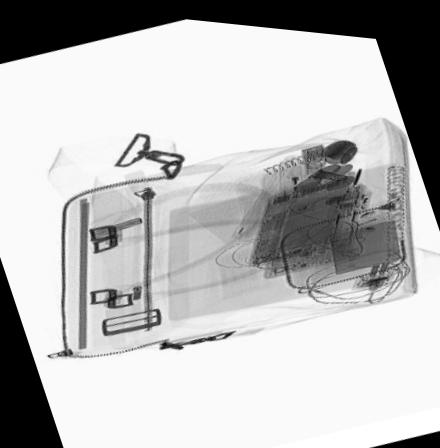Lighter: (271, 151, 306, 200)
